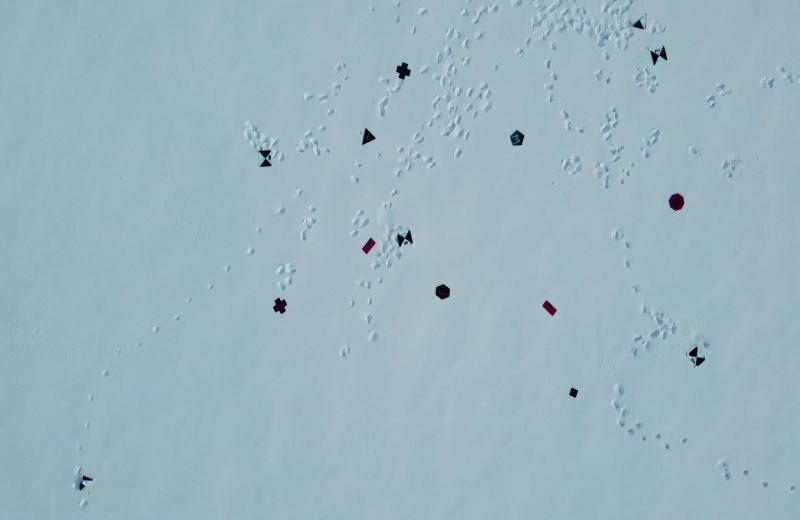Cross: (395, 60, 411, 80), (272, 297, 288, 316)
Hexagon: (434, 284, 452, 302)
Octagon: (668, 192, 686, 212)
Pentagon: (510, 130, 526, 148)
Rectangle: (360, 236, 378, 258), (541, 298, 559, 318)
Square: (568, 386, 579, 400)
Triangle: (359, 127, 377, 146)
